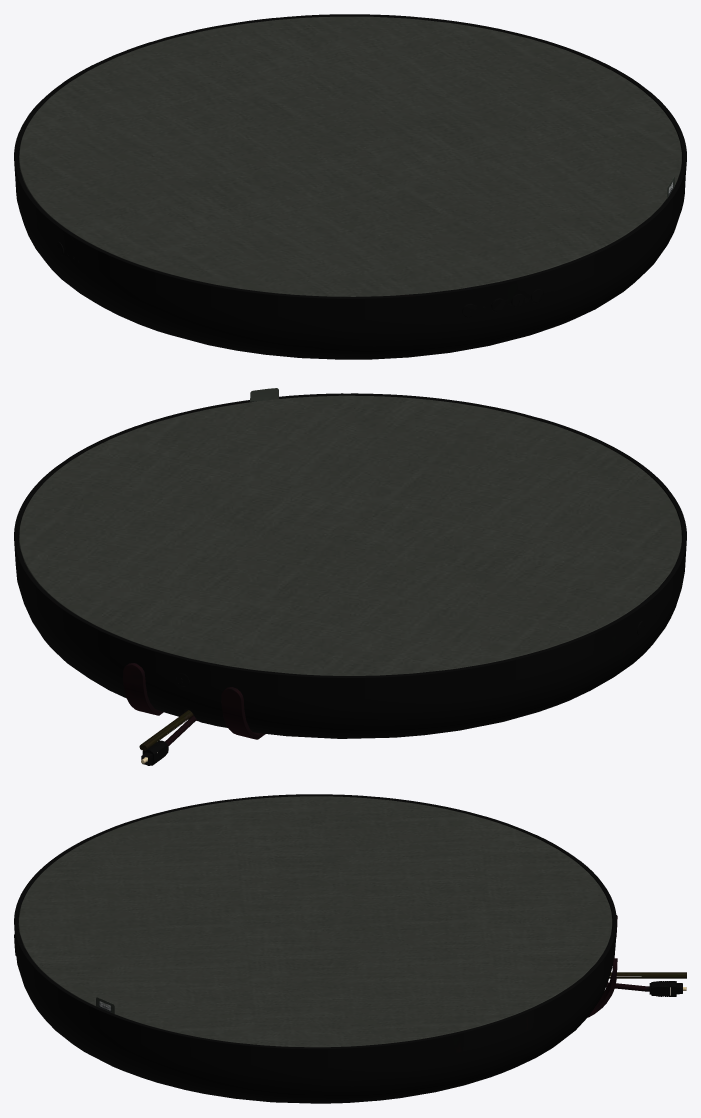
The model's file is solskydd_gosnik_bluetooth_50606997.glb.
3 renders of one model, top to bottom at view 1: azimuth 30°, elevation 25°; view 2: azimuth 150°, elevation 25°; view 3: azimuth 270°, elevation 25°, orthographic. The views are drawn at different scales.
Visible parts, largest first — view 1: solskydd_gosnik_bluetooth_50606997; view 2: solskydd_gosnik_bluetooth_50606997; view 3: solskydd_gosnik_bluetooth_50606997.
Part boxes in pixels (left/top/right/bottom): solskydd_gosnik_bluetooth_50606997: left=14, top=14, right=686, bottom=359; solskydd_gosnik_bluetooth_50606997: left=14, top=388, right=686, bottom=765; solskydd_gosnik_bluetooth_50606997: left=14, top=794, right=686, bottom=1103.
Bounding box in the file's own units: 0.4499 × 0.0693 × 0.5023.
2 materials, 2 textured.
